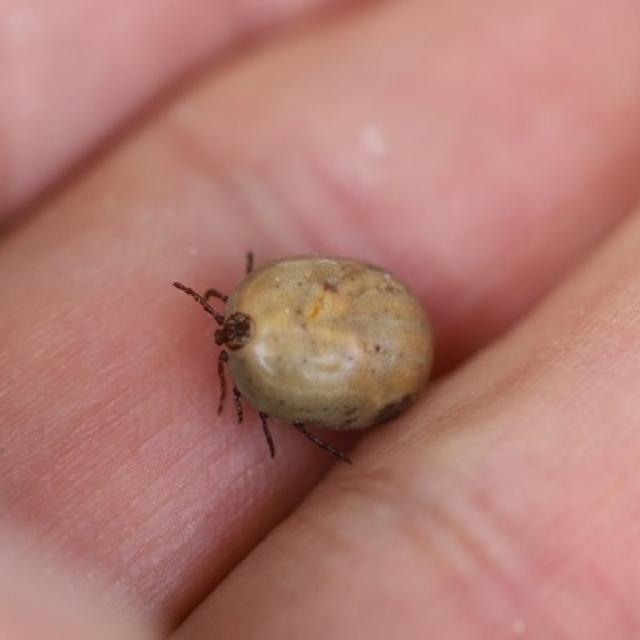Dermacentor Reticulatus-F-Fed: (172, 251, 434, 463)
